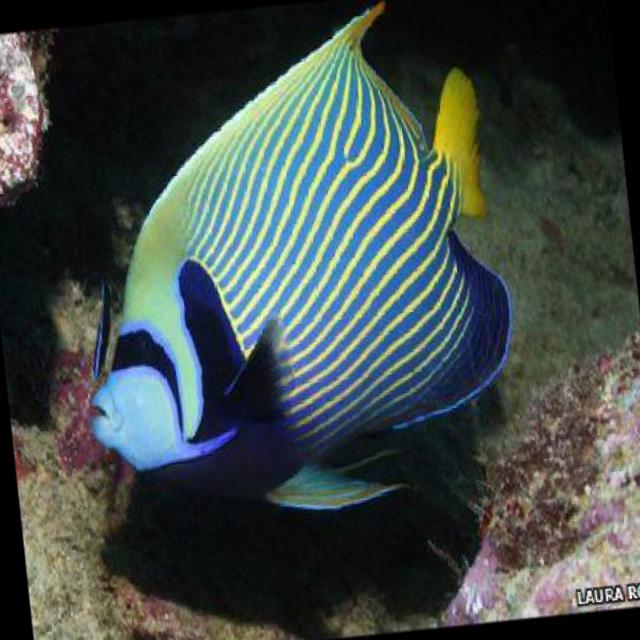AngelFish: (50, 0, 533, 539)
